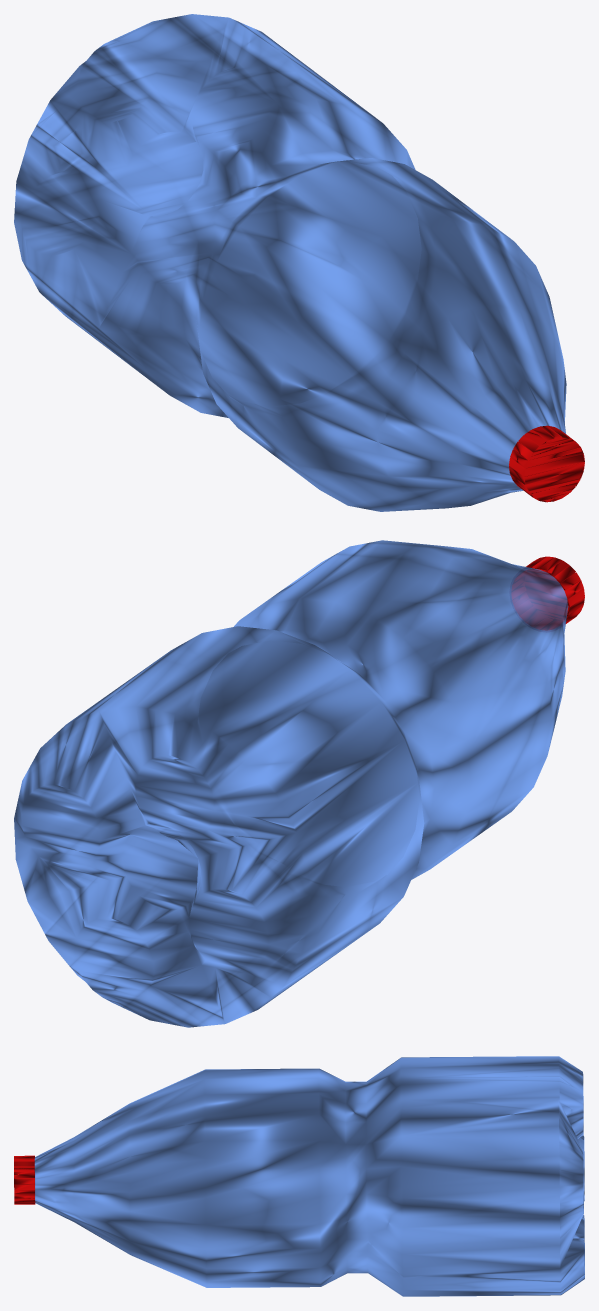
The model's file is model_align.obj.
The picture shows the model from 3 angles, top to bottom: view 1: azimuth 30°, elevation 25°; view 2: azimuth 150°, elevation 25°; view 3: azimuth 270°, elevation 25°; orthographic projection. The views are drawn at different scales.
Bounding box in the file's own units: 0.1083 × 0.1088 × 0.2571.
